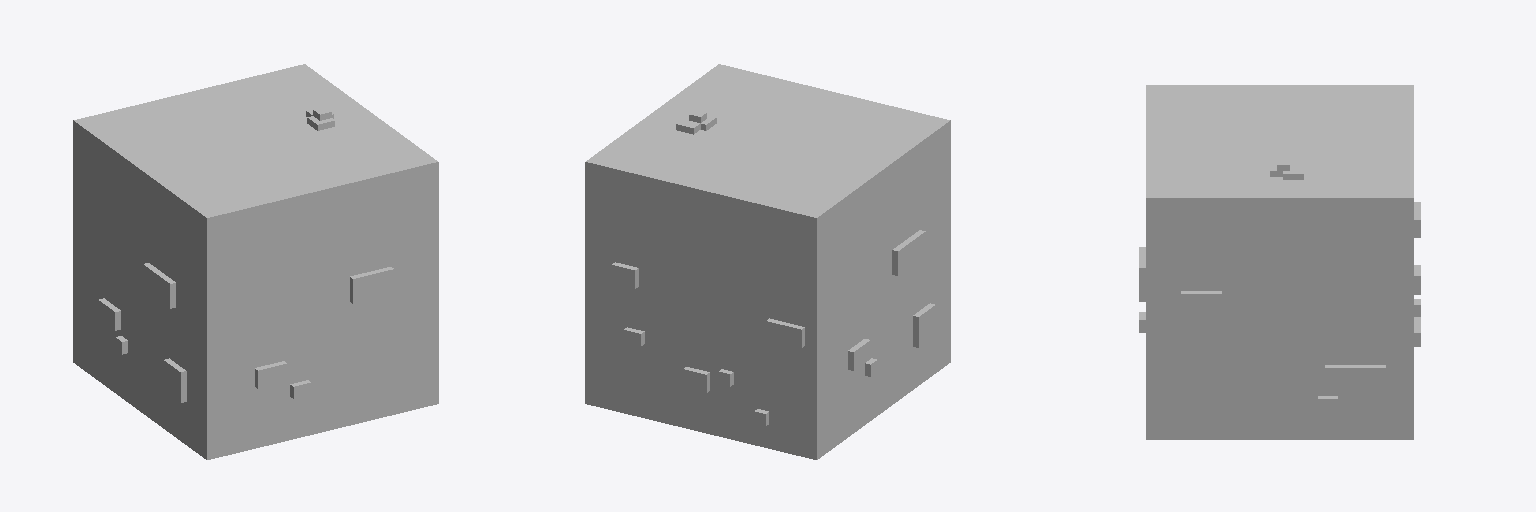
The model's file is grass_block.obj.
3 renders of one model, left to right at view 1: azimuth 30°, elevation 25°; view 2: azimuth 150°, elevation 25°; view 3: azimuth 270°, elevation 25°, orthographic.
Visible parts, largest first — view 1: object 1; view 2: object 1; view 3: object 1.
Part boxes in pixels (x1,y1,x2,y2): object 1: (73,64,438,459); object 1: (585,64,950,459); object 1: (1139,85,1420,439).
Bounding box in the file's own units: 4.1 × 4.1 × 4.1.